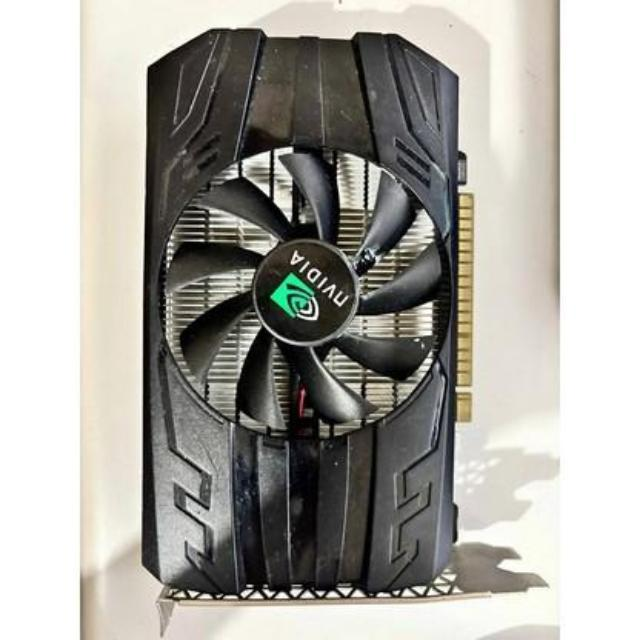GPU: (144, 19, 473, 608)
